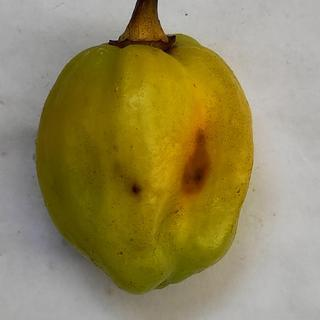Defect: (179, 127, 213, 197)
Fly-bites: (129, 182, 143, 198)
